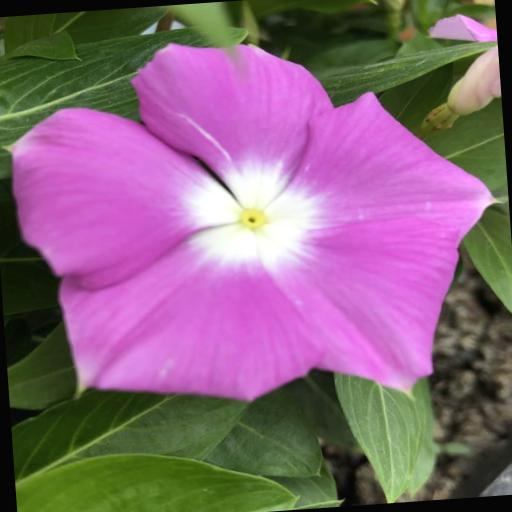Periwinkle: (8, 36, 506, 411)
